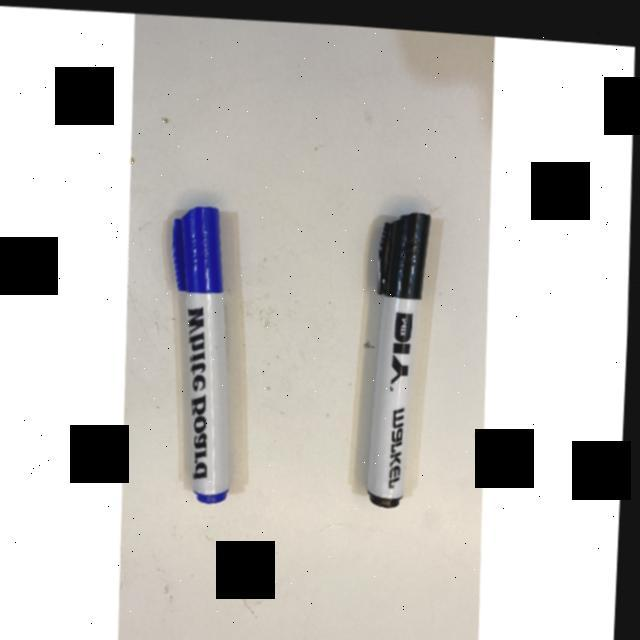marker: (164, 208, 239, 500), (372, 214, 437, 504)
